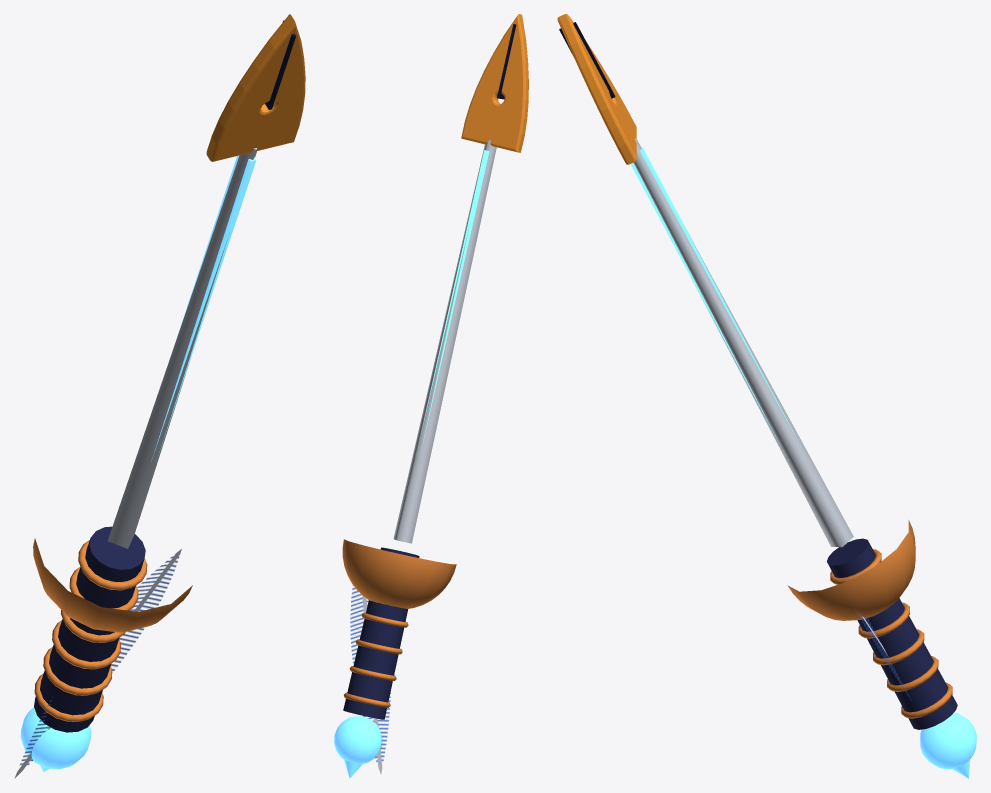
The model's file is hand_eqen3.glb.
3 views of the same model, side by side, from view 1: azimuth 30°, elevation 25°; view 2: azimuth 150°, elevation 25°; view 3: azimuth 270°, elevation 25° (orthographic). The views are drawn at different scales.
Size of the model in its own units: 0.741 by 4.53 by 2.25.
8 materials, 1 textured.
